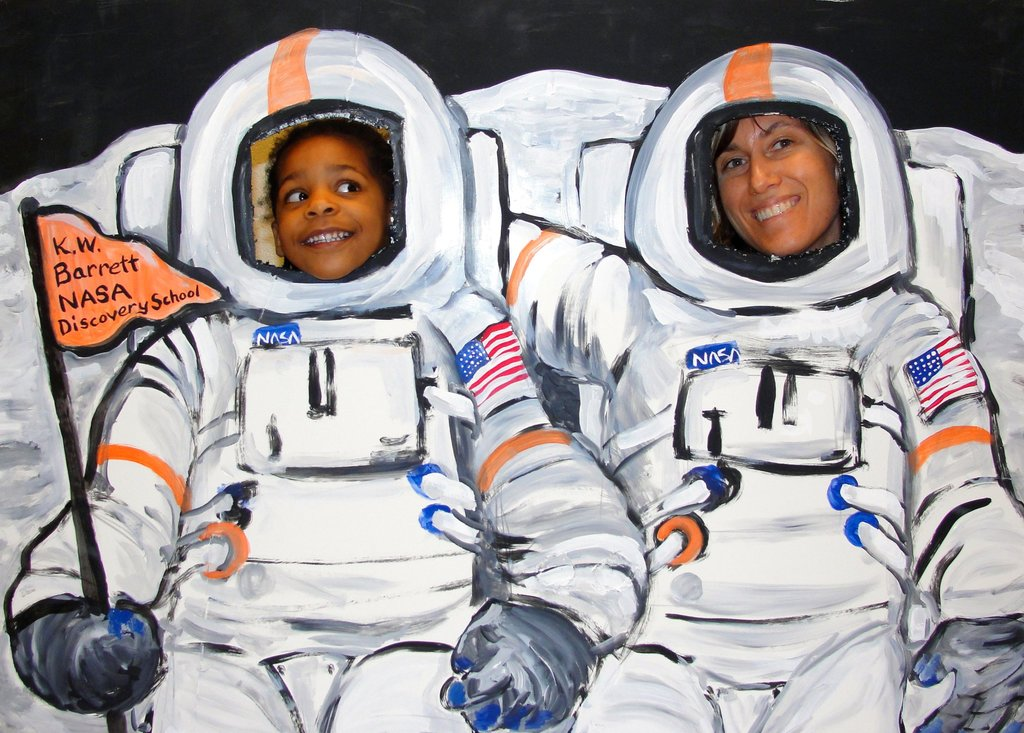Person: (2, 27, 647, 733), (507, 43, 1024, 733)
